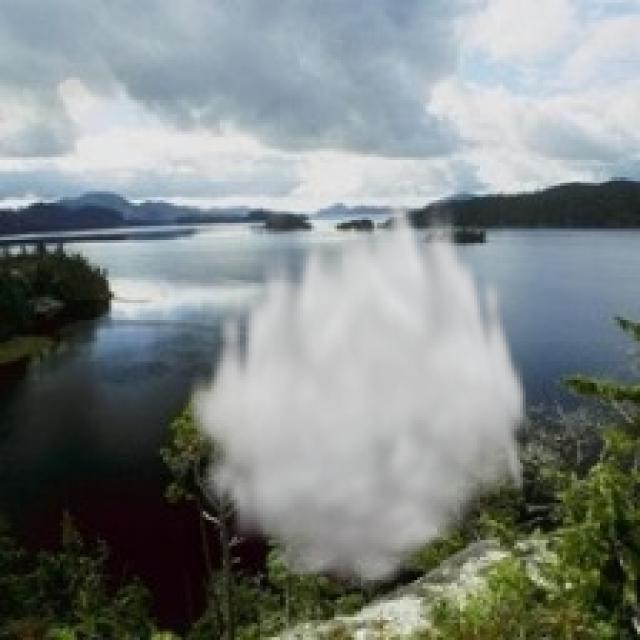Smoke: (183, 180, 532, 594)
